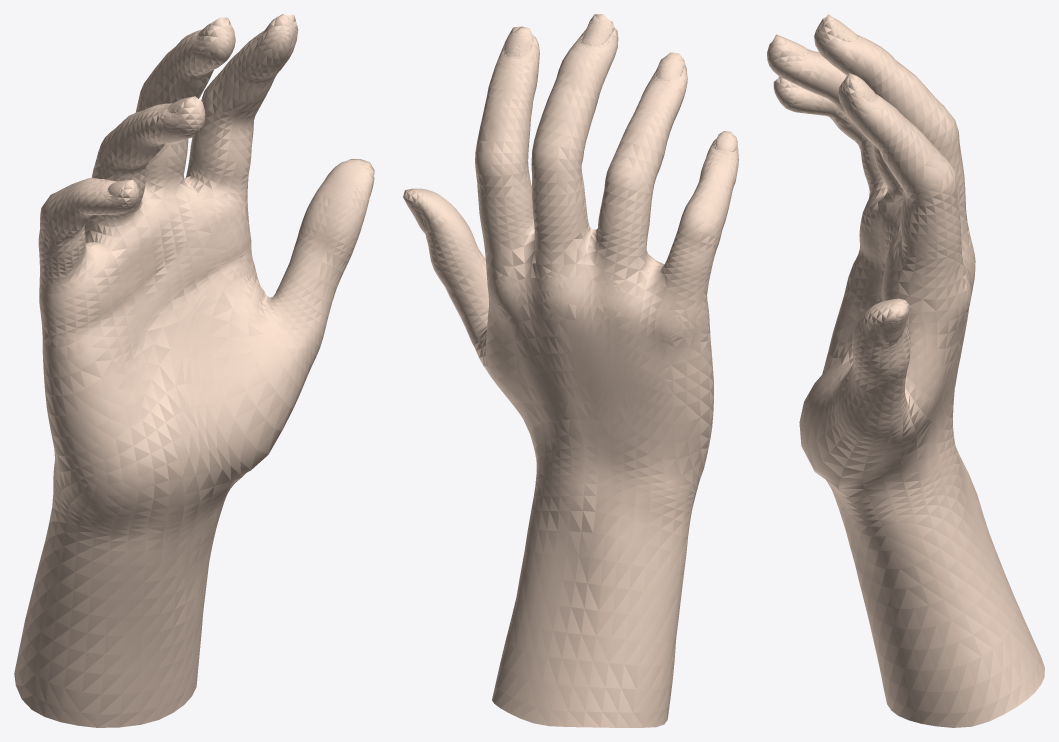
Rendered from hand.dae.
The picture shows the model from 3 angles, left to right: view 1: azimuth 30°, elevation 25°; view 2: azimuth 150°, elevation 25°; view 3: azimuth 270°, elevation 25°; orthographic projection. The views are drawn at different scales.
Visible parts, largest first — view 1: 038F_05SET_04SHOT; view 2: 038F_05SET_04SHOT; view 3: 038F_05SET_04SHOT.
Part boxes in pixels (x1,y1,x2,y2): 038F_05SET_04SHOT: [14, 14, 374, 727]; 038F_05SET_04SHOT: [403, 14, 738, 727]; 038F_05SET_04SHOT: [767, 14, 1044, 727].
Size of the model in its own units: 12.24 by 8.92 by 24.96.
